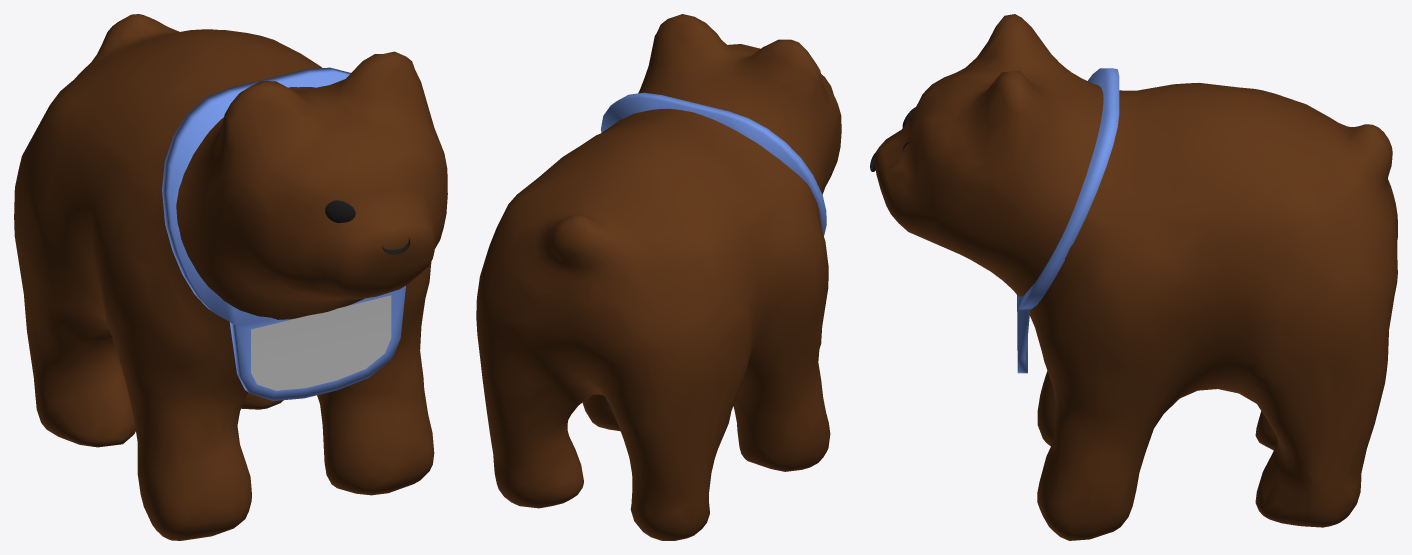
The model's file is Baby Bear.glb.
The picture shows the model from 3 angles, left to right: view 1: azimuth 30°, elevation 25°; view 2: azimuth 150°, elevation 25°; view 3: azimuth 270°, elevation 25°; orthographic projection. The views are drawn at different scales.
Parts seen in each view (by area): view 1: Baby Bear; view 2: Baby Bear; view 3: Baby Bear.
Boxes of the visible parts, x1,y1,x2,y2 form: Baby Bear: (14,14,447,540); Baby Bear: (476,14,841,540); Baby Bear: (870,14,1397,540).
Bounding box in the file's own units: 0.4339 × 0.6225 × 0.6737.
